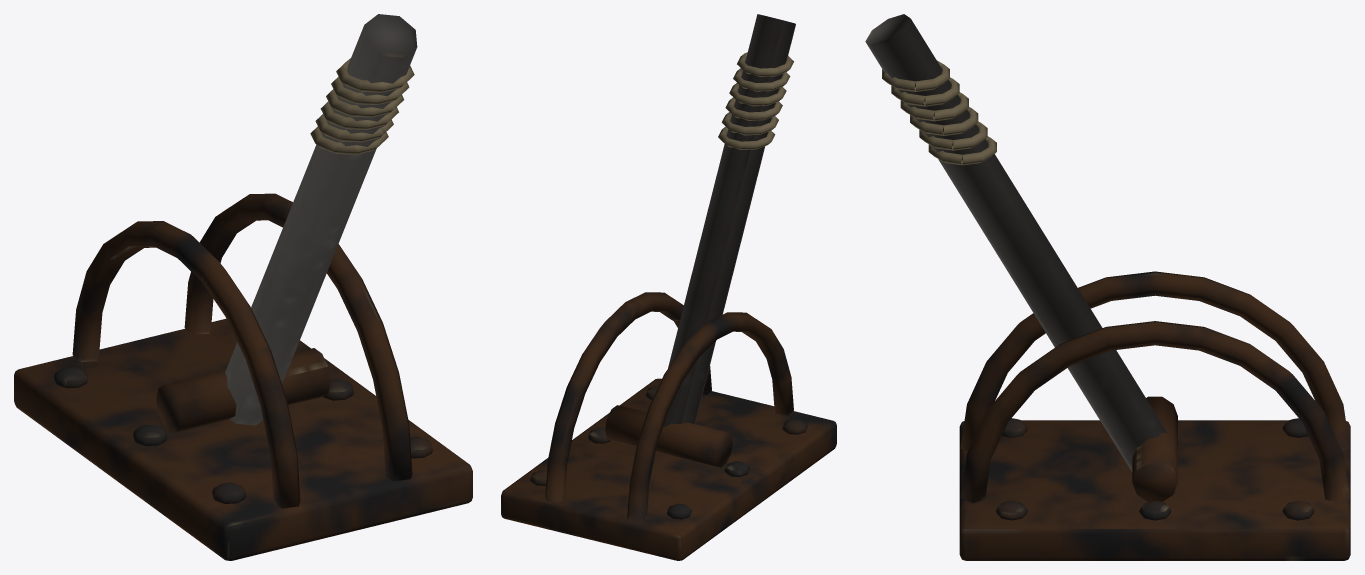
File: drop_lever.obj
3 views of the same model, side by side, from view 1: azimuth 30°, elevation 25°; view 2: azimuth 150°, elevation 25°; view 3: azimuth 270°, elevation 25° (orthographic). The views are drawn at different scales.
Visible parts, largest first — view 1: part0, part2, part3, part1; view 2: part0, part2, part3, part1; view 3: part0, part2, part3, part1.
Part boxes in pixels (left/top/right/bottom): part0: left=14, top=193, right=472, bottom=560; part2: left=225, top=14, right=417, bottom=425; part3: left=310, top=58, right=414, bottom=154; part1: left=53, top=367, right=433, bottom=503; part0: left=501, top=292, right=836, bottom=560; part2: left=663, top=14, right=795, bottom=426; part3: left=718, top=52, right=793, bottom=149; part1: left=530, top=385, right=807, bottom=519; part0: left=959, top=271, right=1350, bottom=560; part2: left=865, top=14, right=1167, bottom=471; part3: left=882, top=60, right=996, bottom=165; part1: left=995, top=418, right=1314, bottom=520.
Bounding box in the file's own units: 0.4 × 0.8297 × 0.7449.
